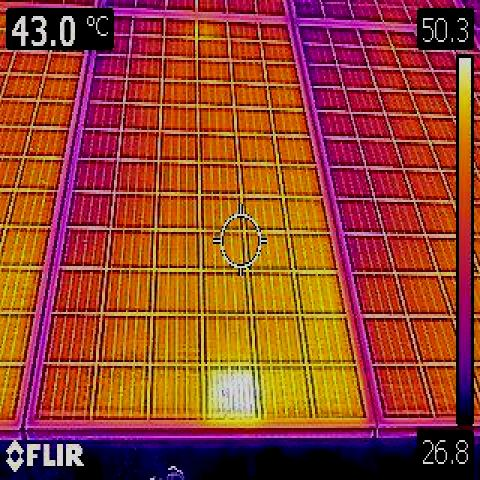fault: (206, 363, 262, 423)
